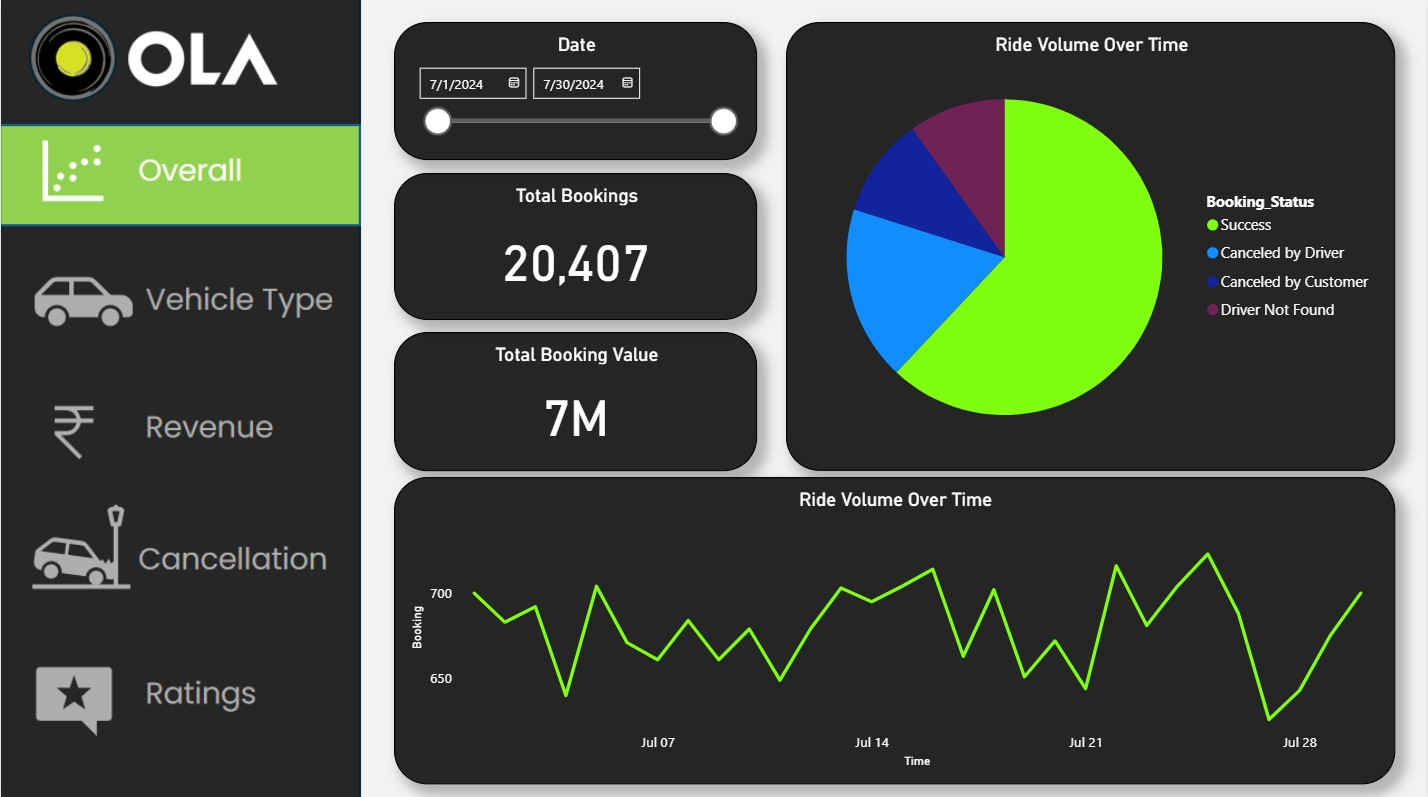

This screenshot's page, from the dashboard's own definition file:
{"tool":"powerbi","page":{"name":"Overall","canvas":[1280,720],"ordinal":0},"visuals":[{"type":"actionButton","box":[0,224.3,325.4,91.3],"z":0},{"type":"actionButton","box":[0,337.8,325.4,91.3],"z":1000},{"type":"actionButton","box":[0,446,325.4,91.3],"z":2000},{"type":"actionButton","box":[0,577.2,325.4,91.3],"z":3000},{"type":"lineChart","title":"Ride Volume Over Time","fields":{"Y":["CountNonNull(Bookings-20000-Rows.Booking_ID)"],"Category":["Bookings-20000-Rows.Date"]},"box":[352.8,428.6,898.9,275.8],"z":4000},{"type":"pieChart","title":"Ride Volume Over Time","fields":{"Y":["CountNonNull(Bookings-20000-Rows.Booking_ID)"],"Category":["Bookings-20000-Rows.Booking_Status"]},"box":[704.4,19.8,547.2,403.3],"z":5000},{"type":"slicer","title":"Date","fields":{"Values":["Bookings-20000-Rows.Date"]},"box":[352.8,19.8,326.4,124.2],"z":6000},{"type":"card","title":"Total Bookings","fields":{"Values":["Count(Bookings-20000-Rows.Booking_ID)"]},"box":[352.8,154.9,326.4,131.9],"z":7000},{"type":"card","title":"Total Booking Value","fields":{"Values":["Sum(Bookings-20000-Rows.Booking_Value)"]},"box":[352.8,297.8,326.4,125.3],"z":8000}]}

Visuals, with their boxes in screenshot pixels (x1, y1, x2, y2), scaled from the page's 1280x720 canvas onto the 1428x797 screenshot:
actionButton: 0:248:363:349
actionButton: 0:374:363:475
actionButton: 0:494:363:595
actionButton: 0:639:363:740
"Ride Volume Over Time" lineChart: 394:474:1396:780
"Ride Volume Over Time" pieChart: 786:22:1396:468
"Date" slicer: 394:22:758:159
"Total Bookings" card: 394:171:758:317
"Total Booking Value" card: 394:330:758:468
